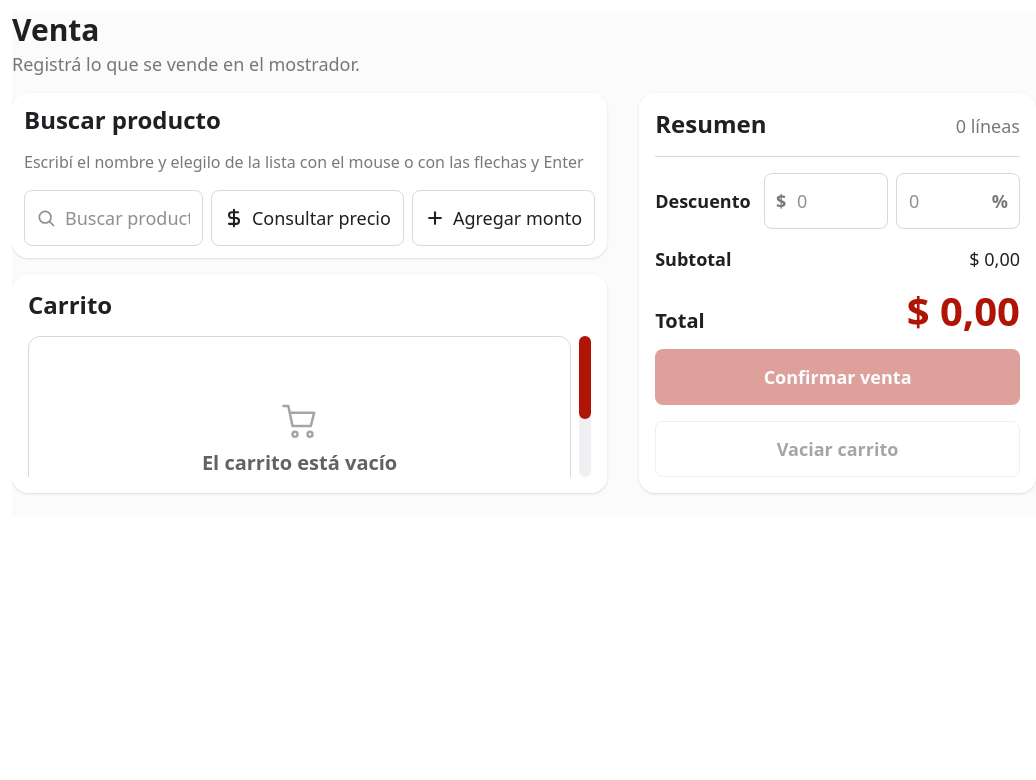
Test: SalesPage › does not let a discount go over the total
In the dropdown named "Buscar producto para vender": [113, 218] box [24, 190, 203, 246], type "cinta"
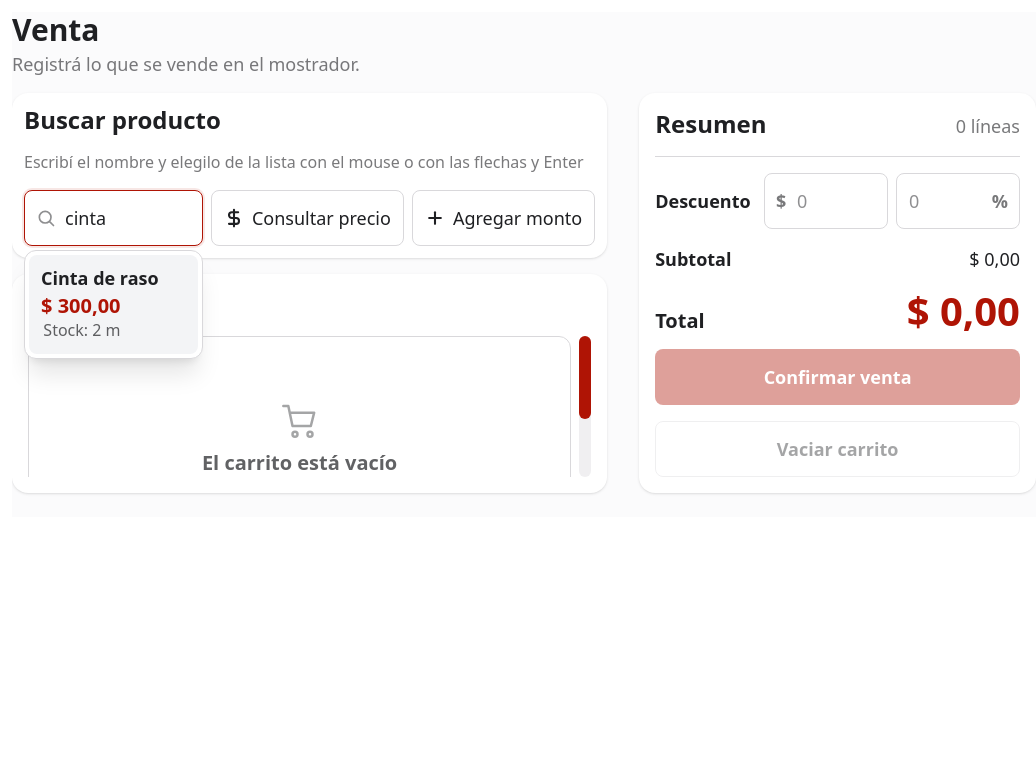
Click the option named "Agregar Cinta de raso": [113, 304] box [29, 255, 198, 354]
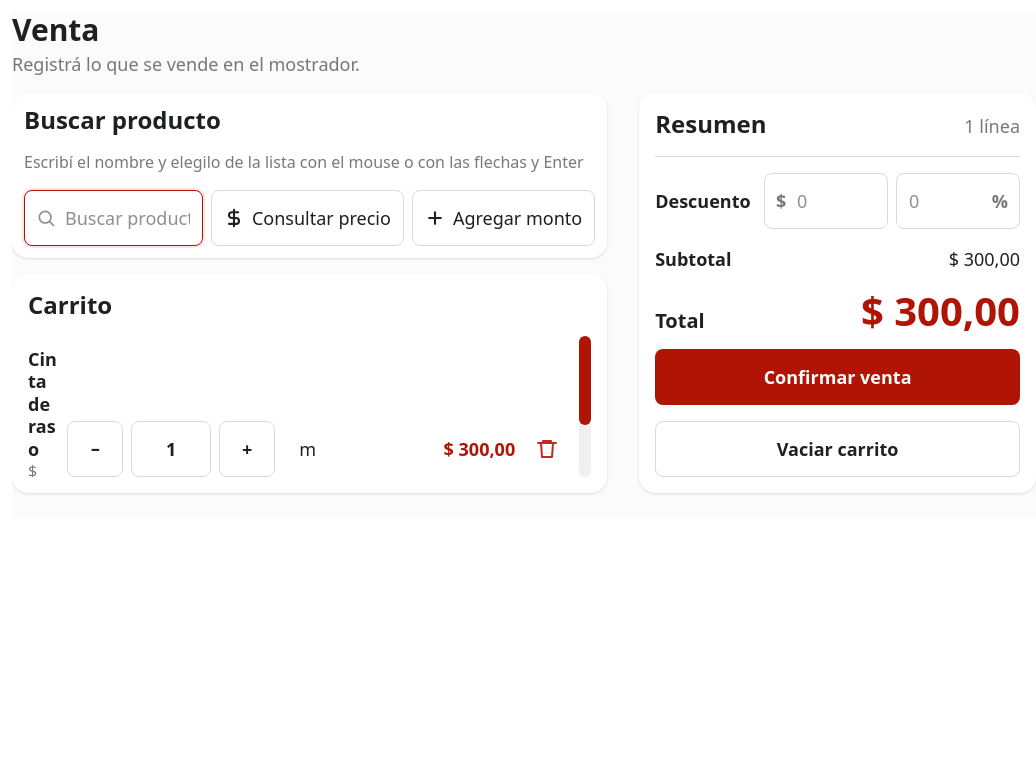
In the field named "Descuento en pesos": [826, 201] box [764, 173, 888, 229], type "301"
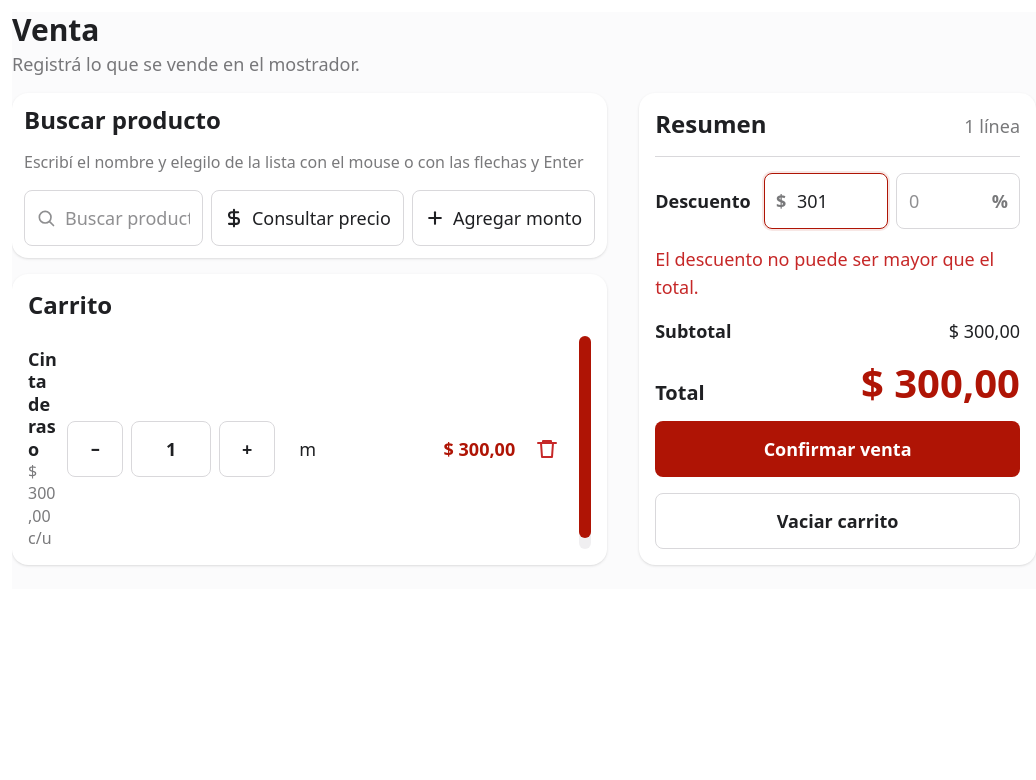
Check: the text named "Total de la venta" reads "$ 300,00", box [861, 355, 1020, 410]
Check: the text "El descuento no puede ser mayor que el total." is shown, box [655, 245, 1020, 301]
Replace the text in the field named "Descuento en pesos" with "50": [826, 201] box [764, 173, 888, 229]
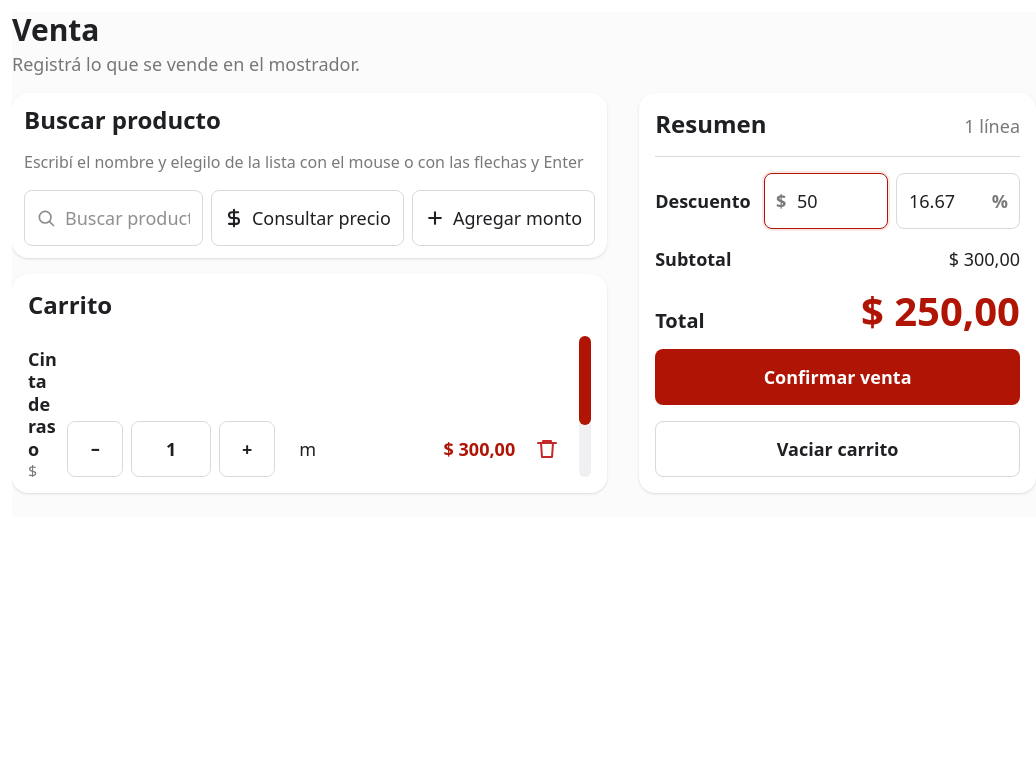
Check: the text named "Total de la venta" reads "$ 250,00", box [861, 283, 1020, 338]
Click the button "Vaciar carrito": [838, 449] box [655, 421, 1020, 477]
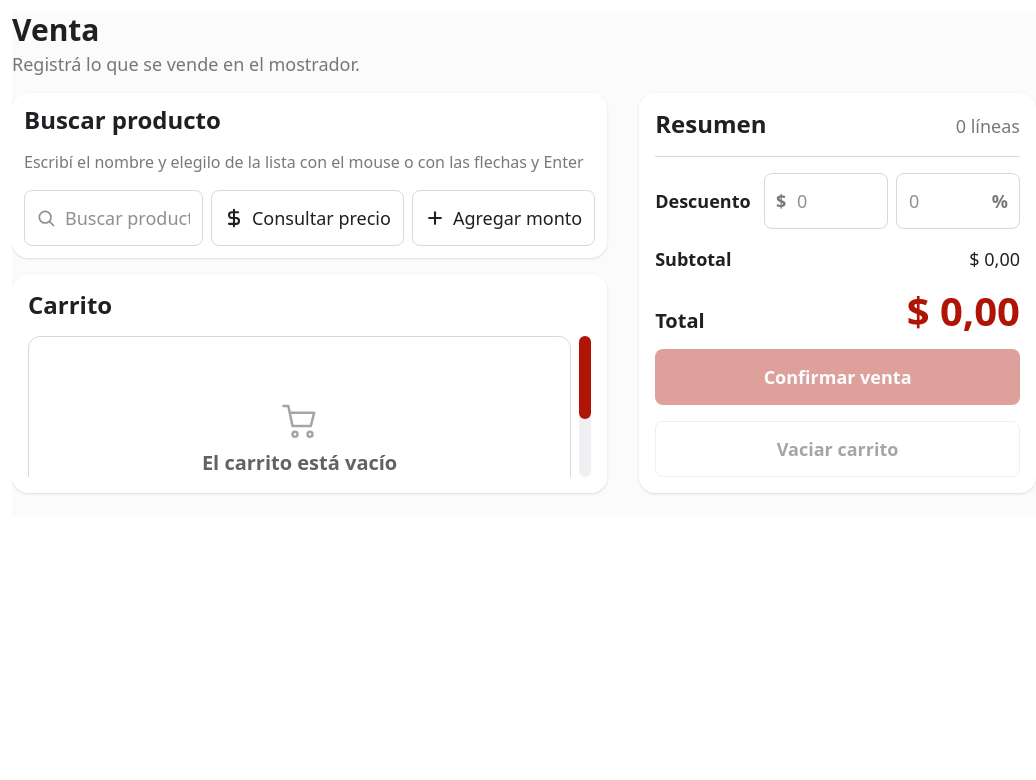
Check: the text "El carrito está vacío" is shown, box [202, 449, 397, 477]
Check: the text named "Total de la venta" reads "$ 0,00", box [907, 283, 1020, 338]
